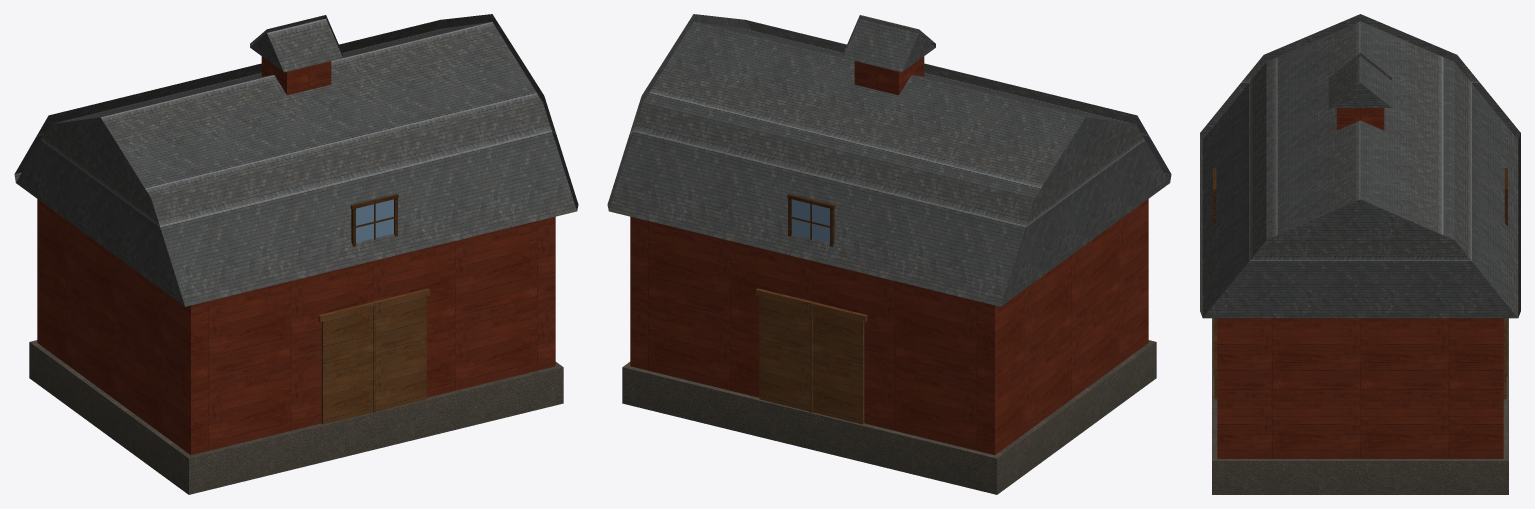
Rendered from barn.gltf.
3 renders of one model, left to right at view 1: azimuth 30°, elevation 25°; view 2: azimuth 150°, elevation 25°; view 3: azimuth 270°, elevation 25°, orthographic. The views are drawn at different scales.
Visible parts, largest first — view 1: Barn; view 2: Barn; view 3: Barn.
Boxes of the visible parts, x1,y1,x2,y2 form: Barn: (14, 14, 578, 494); Barn: (607, 14, 1171, 494); Barn: (1200, 14, 1520, 494).
Size of the model in its own units: 15.9 by 14.3 by 12.1.
6 materials, 5 textured.
